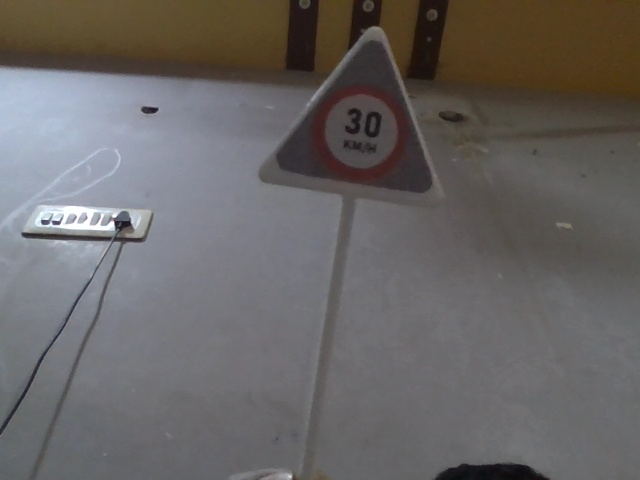speedlimit: (269, 35, 423, 210)
